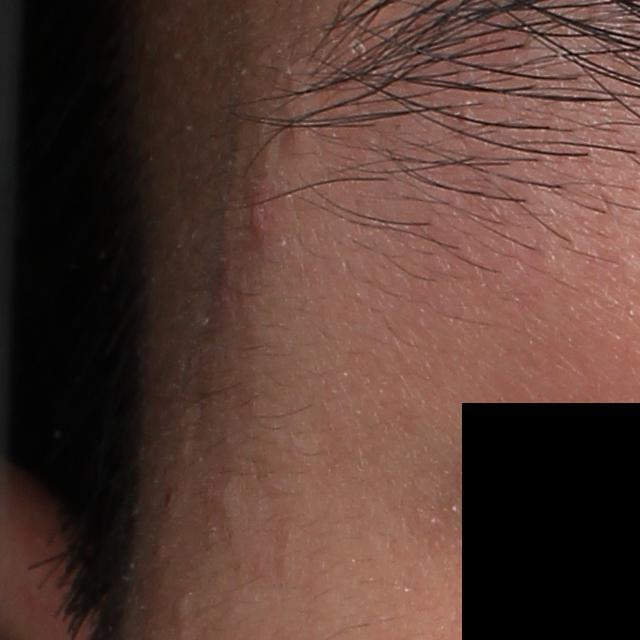comedo: (173, 591, 193, 625)
papule: (243, 188, 276, 247)
